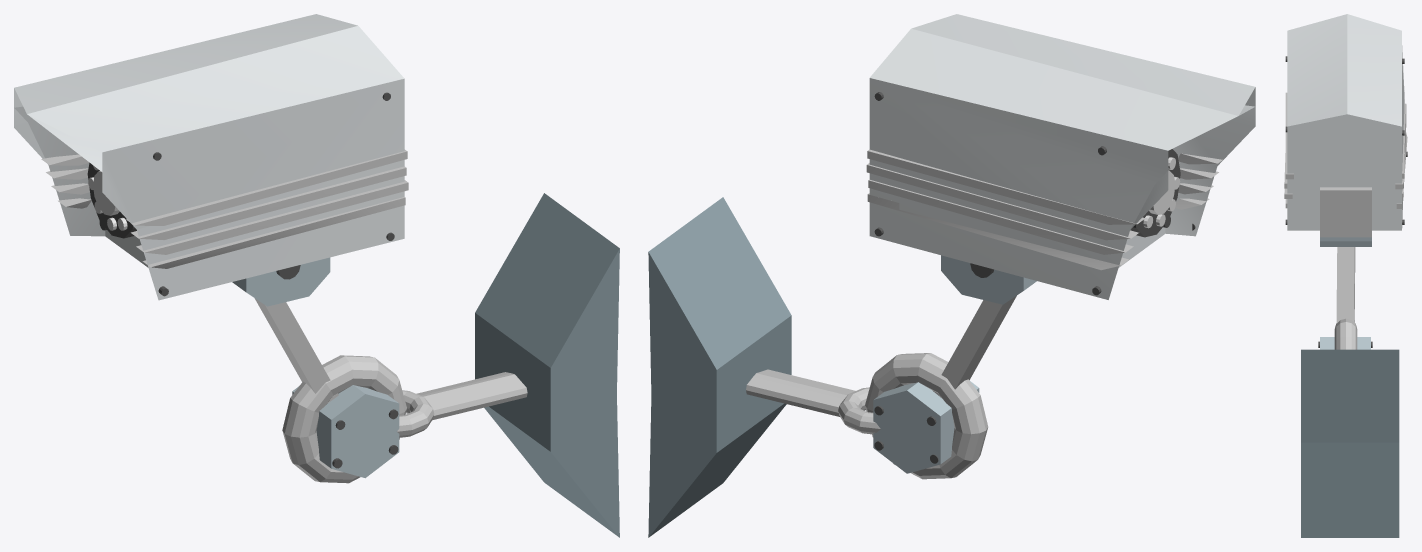
The model's file is Camera.gltf.
3 views of the same model, side by side, from view 1: azimuth 30°, elevation 25°; view 2: azimuth 150°, elevation 25°; view 3: azimuth 270°, elevation 25° (orthographic). The views are drawn at different scales.
Visible parts, largest first — view 1: mesh_1447428554_material_15___14039_0, mesh_1486721881_material_17___14039_0, mesh_1414799323_material_17___14039_0, mesh_730641048_material_22___14039_0, mesh_480952378_material_16___14039_0, mesh_1319175123_material_22___14039_0, mesh_875912083_material_22___14039_0, mesh_362872538_material_22___14039_0, mesh_1033332193_material_22___14039_0, mesh_1522476866_material_16___14039_0, mesh_175533046_material_22___14039_0, mesh_1701470138_material_22___14039_0 (+2 smaller); view 2: mesh_1447428554_material_15___14039_0, mesh_1486721881_material_17___14039_0, mesh_1414799323_material_17___14039_0, mesh_730641048_material_22___14039_0, mesh_1522476866_material_16___14039_0, mesh_1319175123_material_22___14039_0, mesh_175533046_material_22___14039_0, mesh_981192065_material_22___14039_0, mesh_1153316989_material_22___14039_0, mesh_404246174_material_22___14039_0, mesh_677250131_material_16___14039_0, mesh_480952378_material_16___14039_0 (+3 smaller); view 3: mesh_1447428554_material_15___14039_0, mesh_1414799323_material_17___14039_0, mesh_1486721881_material_17___14039_0, mesh_2010731906_material_22___14039_0, mesh_175533046_material_22___14039_0, mesh_730641048_material_22___14039_0, mesh_677250131_material_16___14039_0, mesh_1522476866_material_16___14039_0, mesh_875912083_material_22___14039_0, mesh_981192065_material_22___14039_0.
Boxes of the visible parts, x1,y1,x2,y2 form: mesh_1447428554_material_15___14039_0: (14,14,404,300); mesh_1486721881_material_17___14039_0: (475,193,619,440); mesh_1414799323_material_17___14039_0: (475,324,619,537); mesh_730641048_material_22___14039_0: (282,355,406,483); mesh_480952378_material_16___14039_0: (317,417,399,478); mesh_1319175123_material_22___14039_0: (416,372,527,420); mesh_875912083_material_22___14039_0: (126,149,407,225); mesh_362872538_material_22___14039_0: (131,166,406,239); mesh_1033332193_material_22___14039_0: (136,180,408,254); mesh_1522476866_material_16___14039_0: (292,385,399,444); mesh_175533046_material_22___14039_0: (254,298,338,403); mesh_1701470138_material_22___14039_0: (142,197,405,268); mesh_1447428554_material_15___14039_0: (869,14,1255,299); mesh_1486721881_material_17___14039_0: (648,197,791,403); mesh_1414799323_material_17___14039_0: (648,327,791,537); mesh_730641048_material_22___14039_0: (865,353,988,479); mesh_1522476866_material_16___14039_0: (873,380,979,451); mesh_1319175123_material_22___14039_0: (746,369,855,416); mesh_175533046_material_22___14039_0: (933,295,1016,397); mesh_981192065_material_22___14039_0: (866,163,1138,240); mesh_1153316989_material_22___14039_0: (867,149,1145,224); mesh_404246174_material_22___14039_0: (868,179,1133,254); mesh_677250131_material_16___14039_0: (941,255,1036,304); mesh_480952378_material_16___14039_0: (873,422,953,473); mesh_1447428554_material_15___14039_0: (1287,14,1404,230); mesh_1414799323_material_17___14039_0: (1301,442,1399,537); mesh_1486721881_material_17___14039_0: (1301,349,1399,442); mesh_2010731906_material_22___14039_0: (1320,187,1371,237); mesh_175533046_material_22___14039_0: (1336,247,1355,323); mesh_730641048_material_22___14039_0: (1334,318,1357,349); mesh_677250131_material_16___14039_0: (1320,237,1371,246); mesh_1522476866_material_16___14039_0: (1320,337,1370,349); mesh_875912083_material_22___14039_0: (1285,92,1293,179); mesh_981192065_material_22___14039_0: (1395,103,1406,189).
Bounding box in the file's own units: 0.8353 × 0.7753 × 0.2457.
